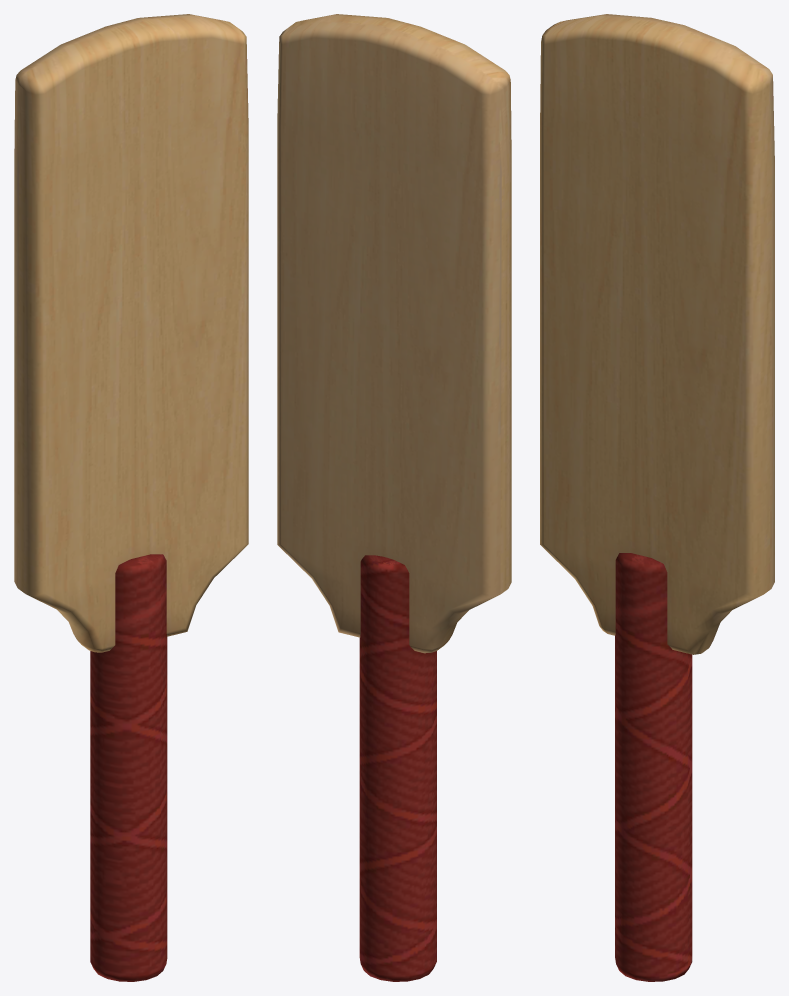
Rendered from 0-cricketbat.fbx.
3 renders of one model, left to right at view 1: azimuth 30°, elevation 25°; view 2: azimuth 150°, elevation 25°; view 3: azimuth 330°, elevation 25°, orthographic.
Parts seen in each view (by area): view 1: 0-cricketbat; view 2: 0-cricketbat; view 3: 0-cricketbat.
Part boxes in pixels (x1=…): 0-cricketbat: x1=14, y1=14, x2=248, y2=981; 0-cricketbat: x1=277, y1=14, x2=511, y2=981; 0-cricketbat: x1=540, y1=14, x2=774, y2=981.
Bounding box in the file's own units: 22.8 × 93.49 × 6.99.
